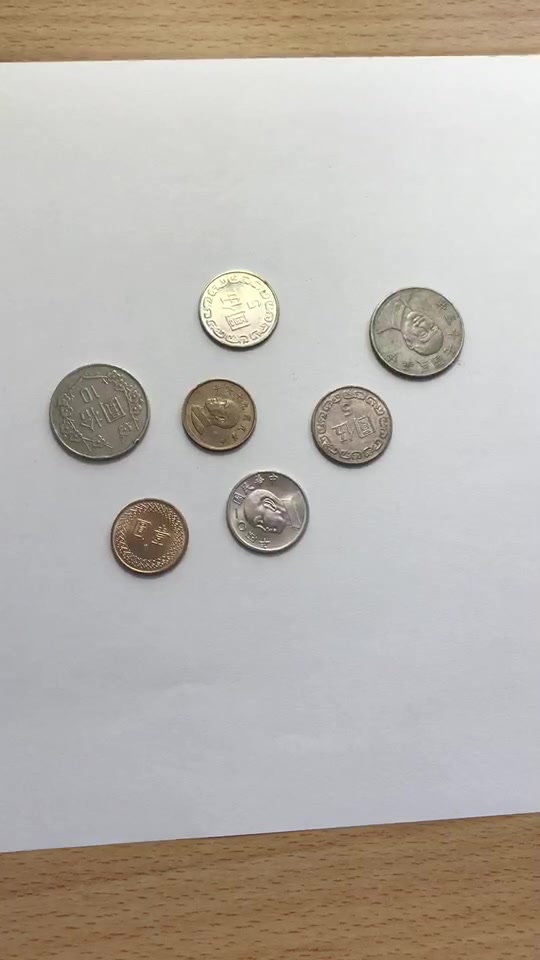1 dallar: (104, 488, 192, 578), (168, 372, 256, 462)
10 dallar: (40, 359, 150, 470), (361, 277, 471, 388)
5 dallar: (302, 381, 398, 476), (194, 259, 290, 354), (219, 462, 315, 557)
